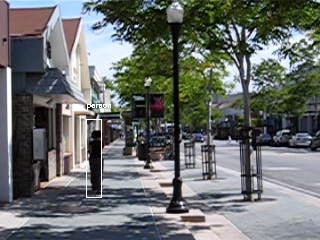person: (87, 130, 108, 196), (86, 130, 107, 196), (88, 130, 109, 196), (87, 129, 108, 195), (87, 131, 108, 197)
target_negative: (14, 52, 155, 224), (113, 51, 264, 191), (126, 119, 185, 172), (140, 23, 196, 52), (147, 132, 206, 159)
